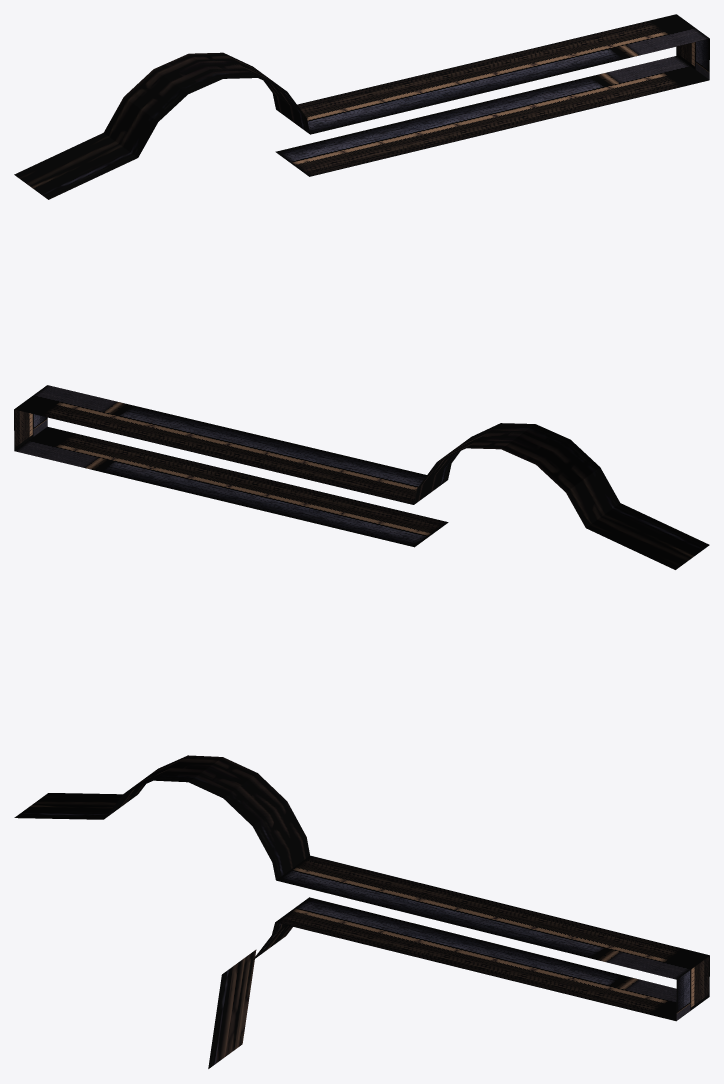
The model's file is collide_DoorXCorner0.obj.
3 views of the same model, one above another, from view 1: azimuth 30°, elevation 25°; view 2: azimuth 150°, elevation 25°; view 3: azimuth 330°, elevation 25° (orthographic).
Parts seen in each view (by area): view 1: collide_DoorXCorner0_Cube.008, object 2; view 2: collide_DoorXCorner0_Cube.008, object 2; view 3: collide_DoorXCorner0_Cube.008, object 2.
Boxes of the visible parts, x1,y1,x2,y2 form: collide_DoorXCorner0_Cube.008: (275, 14, 709, 176); object 2: (14, 52, 309, 199); collide_DoorXCorner0_Cube.008: (14, 385, 448, 547); object 2: (414, 423, 709, 569); collide_DoorXCorner0_Cube.008: (275, 855, 709, 1021); object 2: (14, 755, 309, 1068).
Bounding box in the file's own units: 493 × 201 × 44.53.
